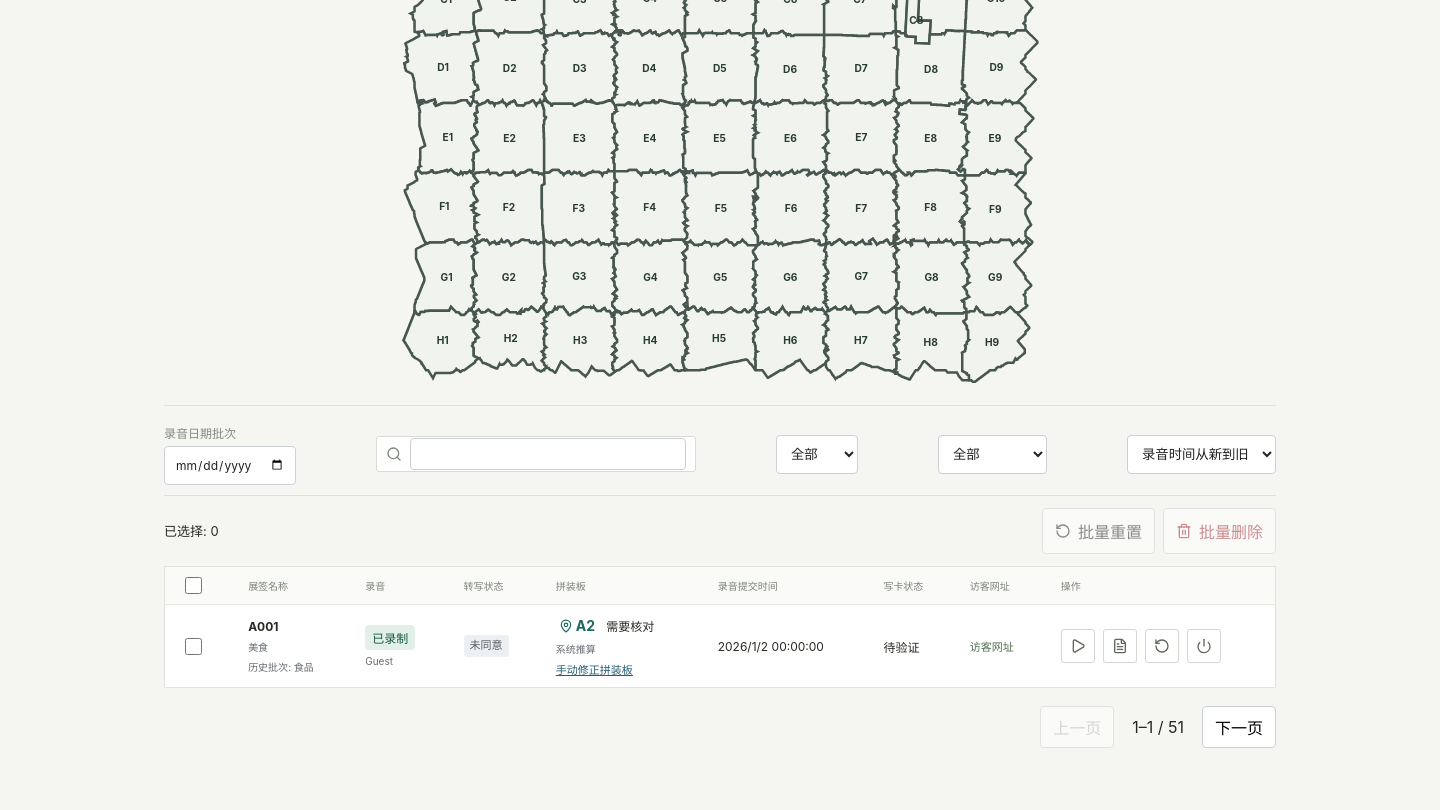
keeps a conflicted manual correction open and does not overwrite the stale version
This screenshot has width=1440, height=810.
(page scrolled)
Expected: the text "A001" is shown, [248,619,278,634]
Click the button with aria-label "手动修正拼装板 A001".
click(594, 669)  # box [556,661,633,677]
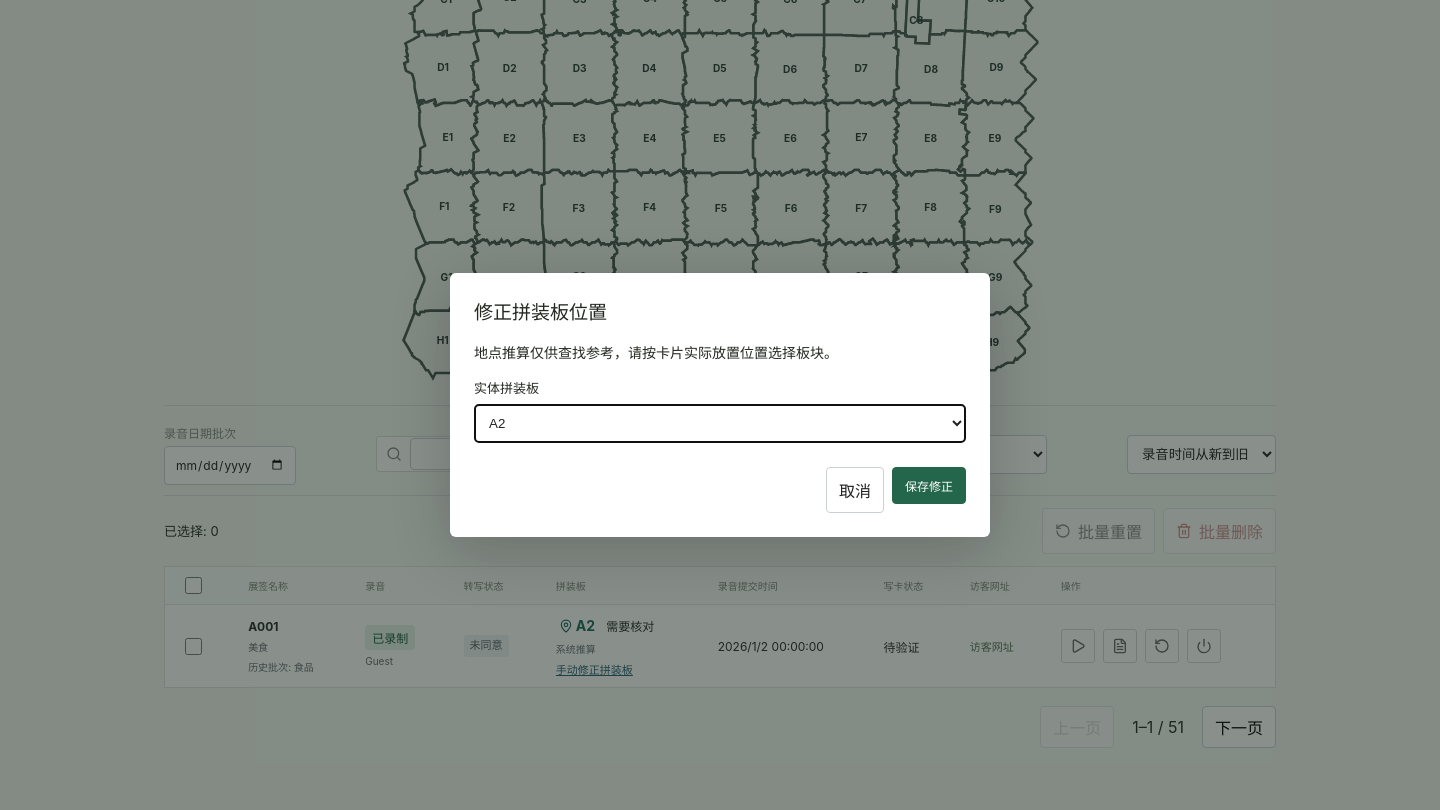
Select "B2" in the dropdown labelled "实体拼装板" at {"x": 720, "y": 424}, box [474,404,966,443]
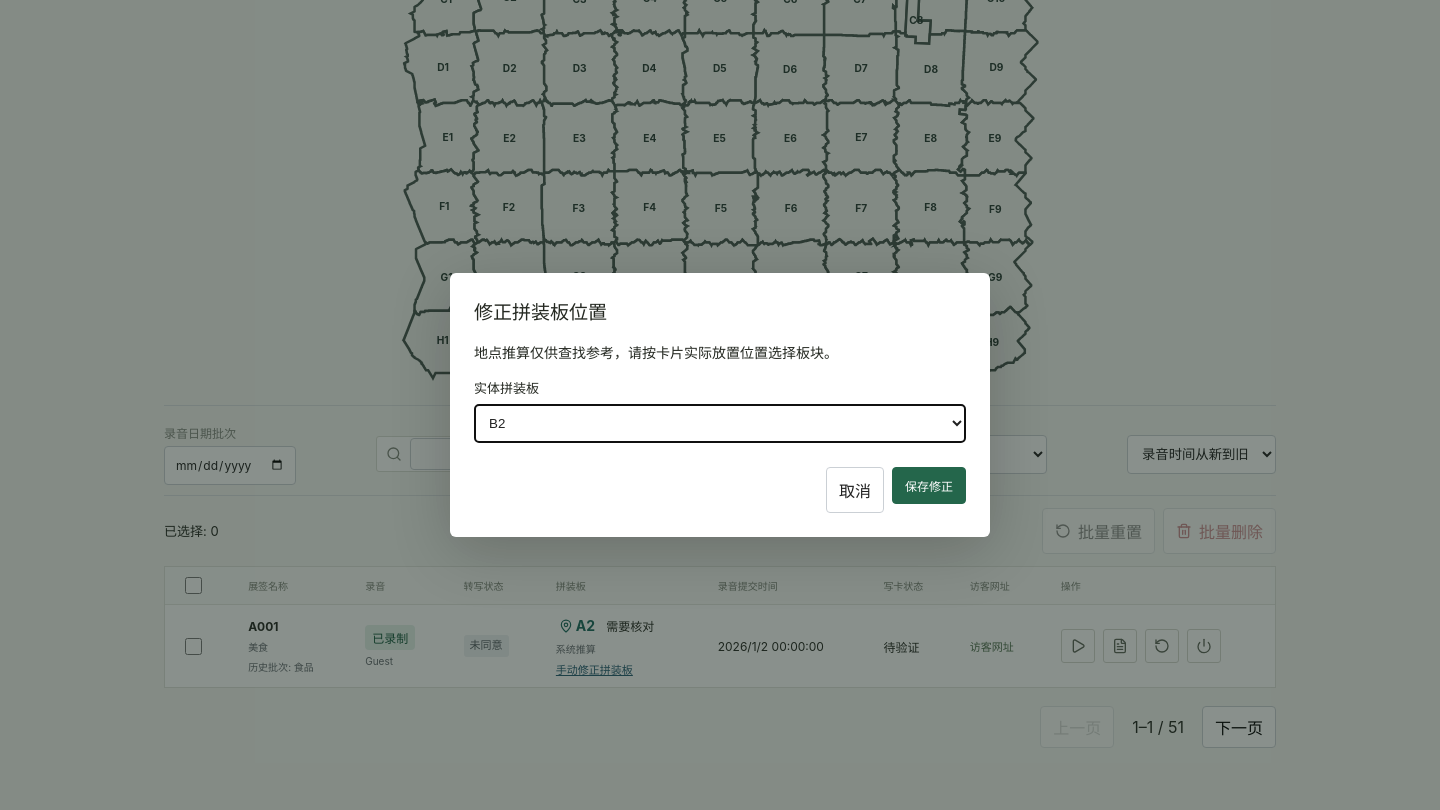
Click the button "保存修正".
click(929, 486)  # box [892,467,966,504]
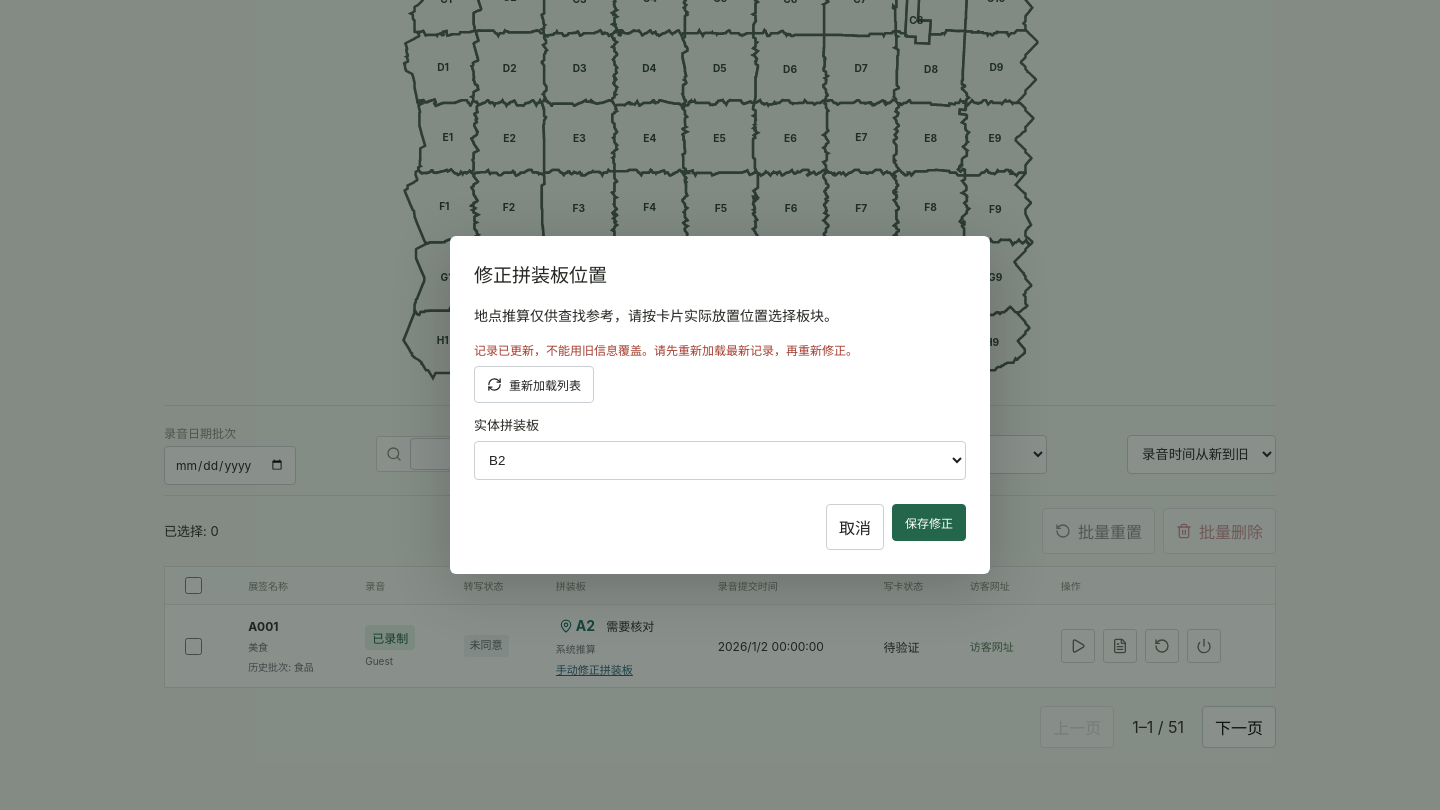
Result: the dialog "修正拼装板位置" is shown at [450,236,990,574]
Result: the message shows "记录已更新" at [474,343,858,358]
